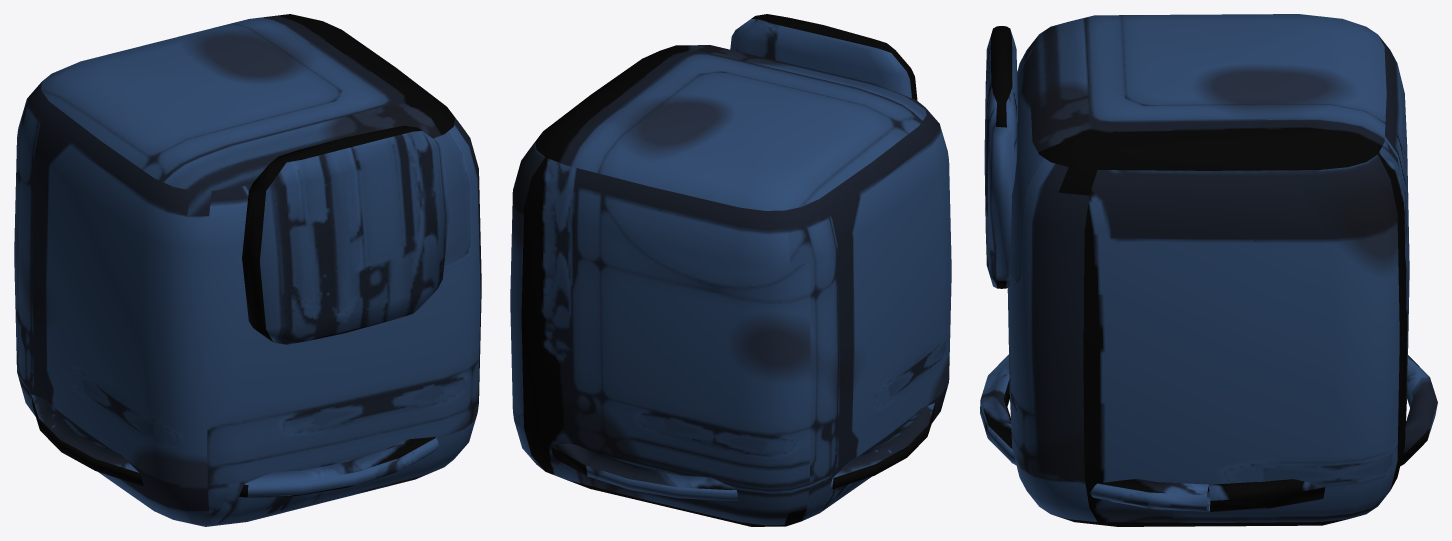
The model's file is Tano_PerneraAbajoDer.fbx.
3 views of the same model, side by side, from view 1: azimuth 30°, elevation 25°; view 2: azimuth 150°, elevation 25°; view 3: azimuth 270°, elevation 25° (orthographic). The views are drawn at different scales.
Parts seen in each view (by area): view 1: Tano_PerneraAbajoDer; view 2: Tano_PerneraAbajoDer; view 3: Tano_PerneraAbajoDer.
Boxes of the visible parts, x1,y1,x2,y2 form: Tano_PerneraAbajoDer: (14,14,481,526); Tano_PerneraAbajoDer: (510,14,951,526); Tano_PerneraAbajoDer: (980,14,1437,526).
Bounding box in the file's own units: 1.43 × 1.43 × 1.43.
